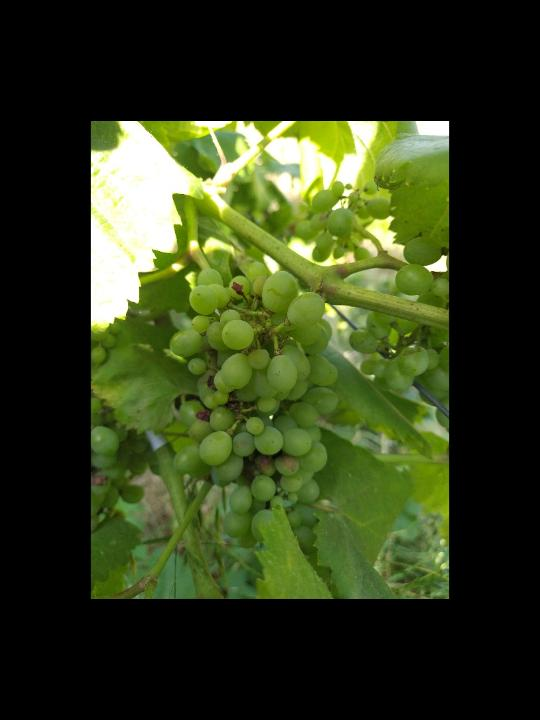grape: (169, 260, 343, 557)
